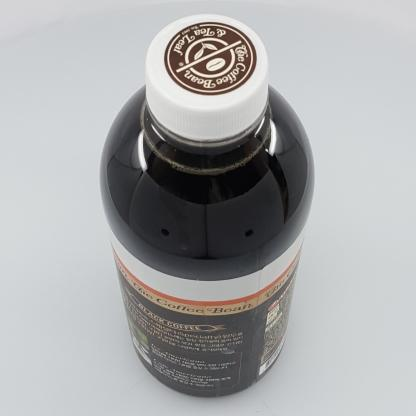--------: (99, 13, 316, 397)
